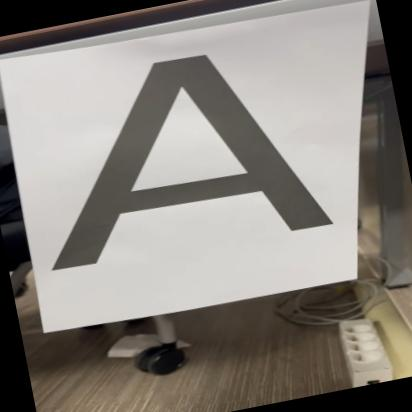seat: (15, 26, 334, 282)
